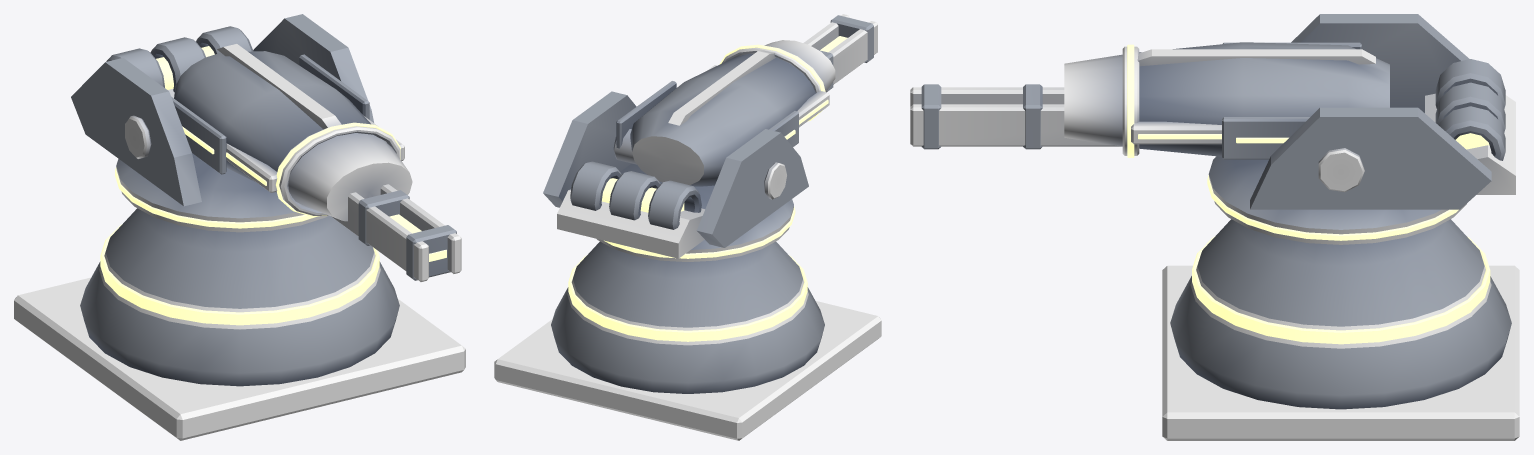
File: R4W_Basic_LOD1.fbx
3 renders of one model, left to right at view 1: azimuth 30°, elevation 25°; view 2: azimuth 150°, elevation 25°; view 3: azimuth 270°, elevation 25°, orthographic. The views are drawn at different scales.
Visible parts, largest first — view 1: R4W_Basic_LOD1; view 2: R4W_Basic_LOD1; view 3: R4W_Basic_LOD1.
Part boxes in pixels (<box>): R4W_Basic_LOD1: <box>14,14,465,440</box>; R4W_Basic_LOD1: <box>494,14,881,440</box>; R4W_Basic_LOD1: <box>910,14,1519,440</box>.
Size of the model in its own units: 0.51 by 0.496 by 0.87.
